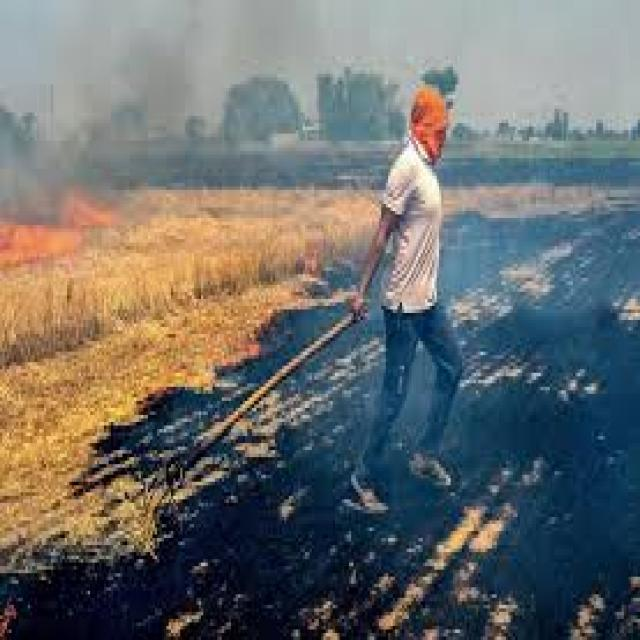dry_waste: (206, 168, 380, 280), (0, 243, 94, 424), (97, 191, 198, 348)
